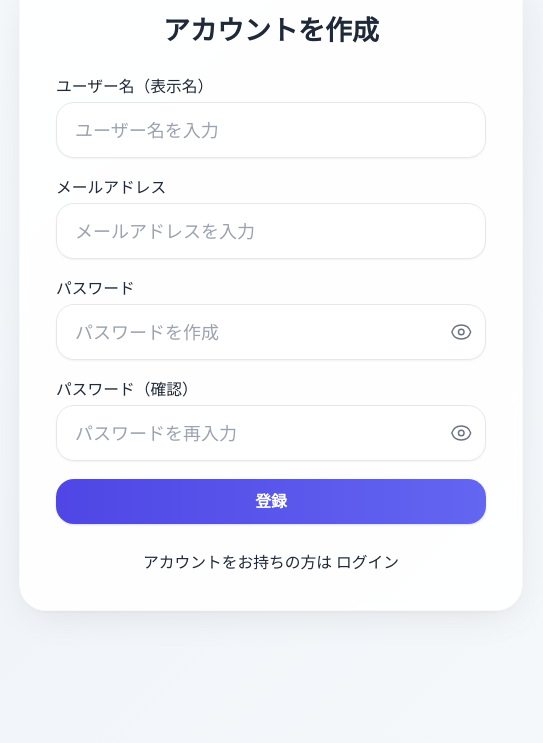
AuthForm › register mode › validation › should show error when username is empty
This screenshot has width=543, height=743.
Step 1. Click the button "登録" → (271, 502), box [56,479,486,524]
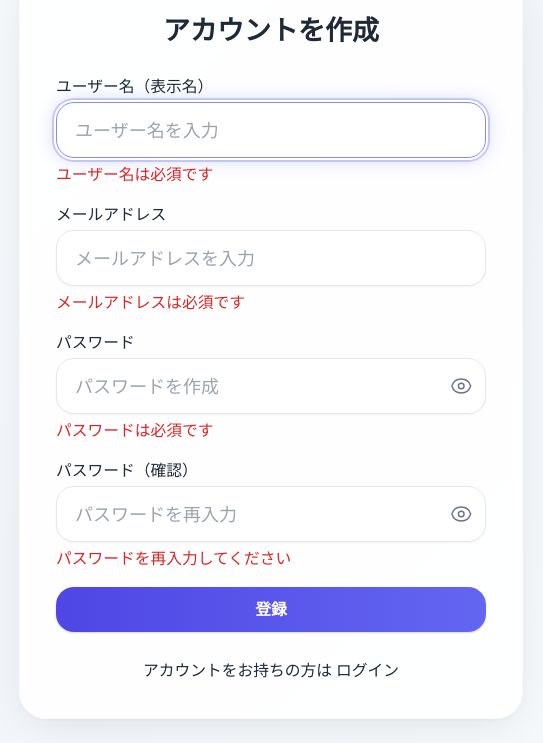
Now the text "ユーザー名は必須です" is shown, box [56,162,213,184]
